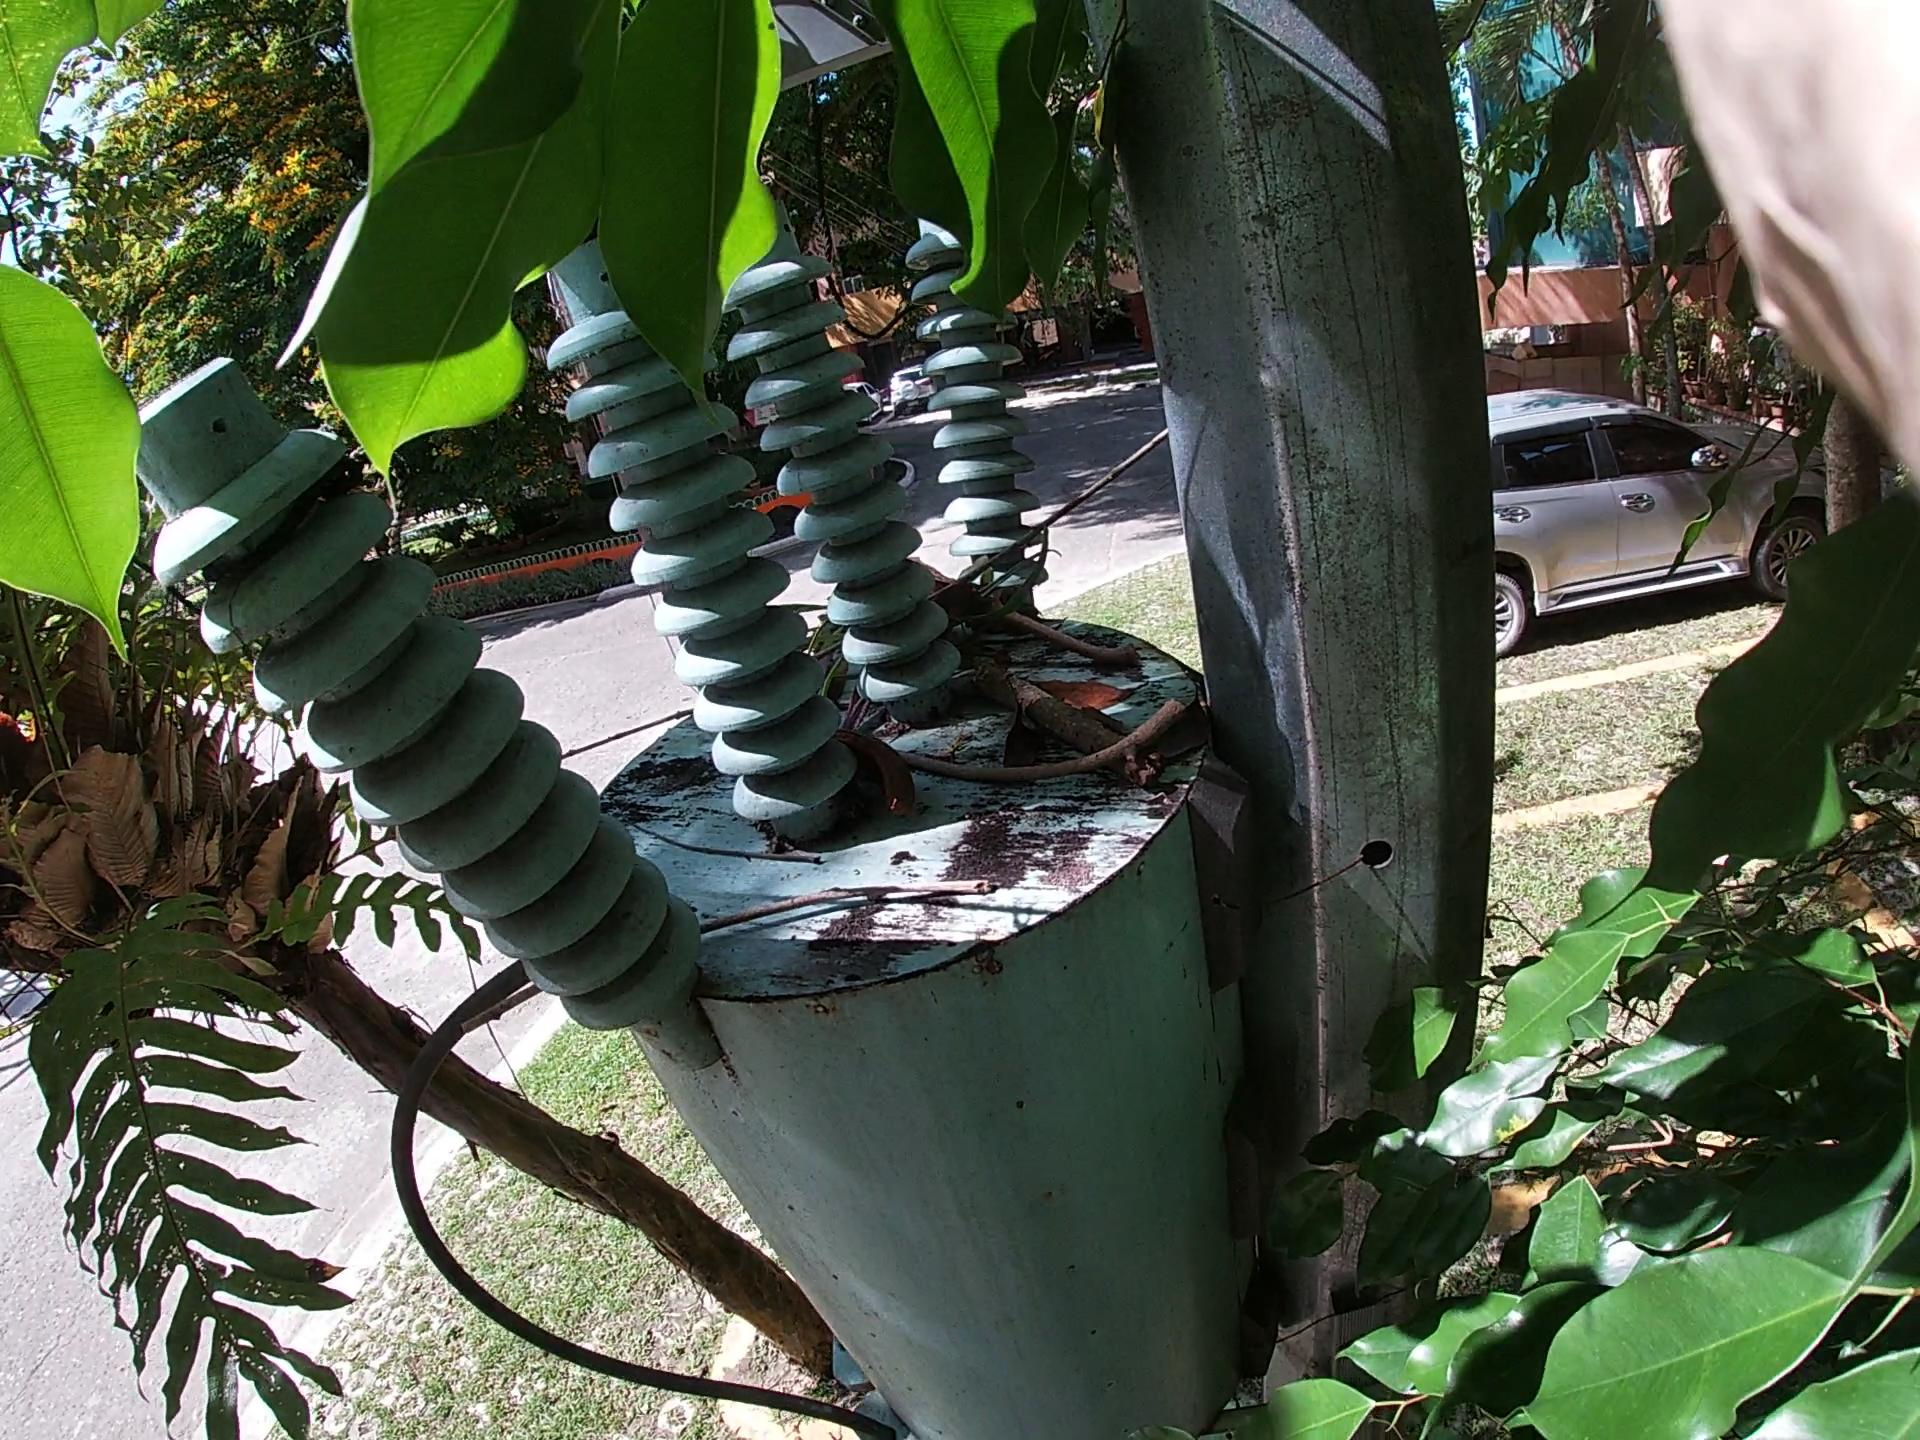branch with leaves: (750, 452, 1327, 862)
leaf: (958, 675, 1188, 806)
tree branch: (537, 787, 1169, 1013), (949, 386, 1324, 663), (869, 517, 1150, 659), (835, 729, 1262, 796)
